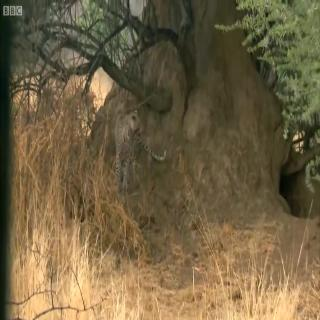Leopard: (102, 97, 151, 209)
